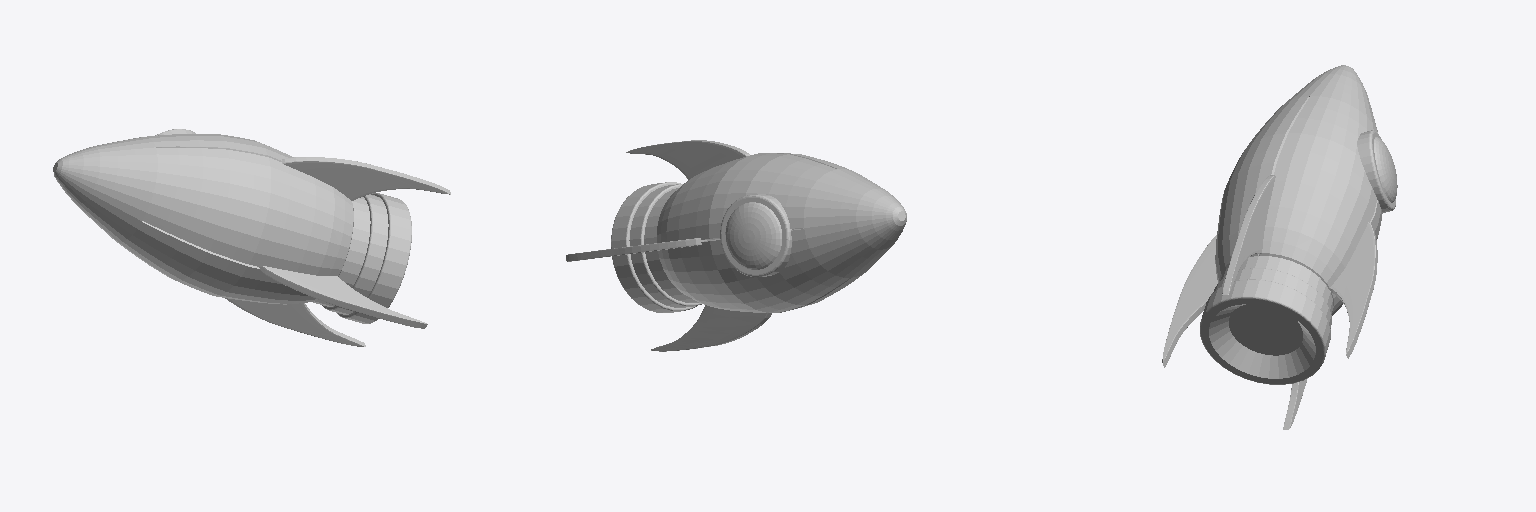
Rendered from Rocket.obj.
3 renders of one model, left to right at view 1: azimuth 30°, elevation 25°; view 2: azimuth 150°, elevation 25°; view 3: azimuth 270°, elevation 25°, orthographic.
Parts seen in each view (by area): view 1: Body_Cylinder.002, Wings_Cube.003, Tip_Cylinder.003, Engine_Cylinder.006; view 2: Body_Cylinder.002, Tip_Cylinder.003, Wings_Cube.003, Engine_Cylinder.006, Window.001_Cylinder.008, Window_Cylinder.007; view 3: Body_Cylinder.002, Engine_Cylinder.006, Wings_Cube.003, Tip_Cylinder.003, Window_Cylinder.007, Window.001_Cylinder.008.
Boxes of the visible parts, box(x1,y1,x2,y2) form: Body_Cylinder.002: box(116, 134, 353, 304); Wings_Cube.003: box(225, 157, 450, 346); Tip_Cylinder.003: box(53, 137, 157, 241); Engine_Cylinder.006: box(313, 193, 411, 323); Body_Cylinder.002: box(657, 153, 865, 312); Tip_Cylinder.003: box(804, 169, 906, 277); Wings_Cube.003: box(566, 140, 771, 351); Engine_Cylinder.006: box(611, 182, 701, 312); Window.001_Cylinder.008: box(725, 202, 781, 269); Window_Cylinder.007: box(720, 194, 791, 276); Body_Cylinder.002: box(1215, 96, 1382, 315); Engine_Cylinder.006: box(1200, 255, 1333, 384); Wings_Cube.003: box(1162, 175, 1377, 429); Tip_Cylinder.003: box(1286, 65, 1377, 131); Window_Cylinder.007: box(1357, 130, 1395, 212); Window.001_Cylinder.008: box(1374, 137, 1397, 202).
Size of the model in its own units: 0.1883 by 0.1271 by 0.1132.